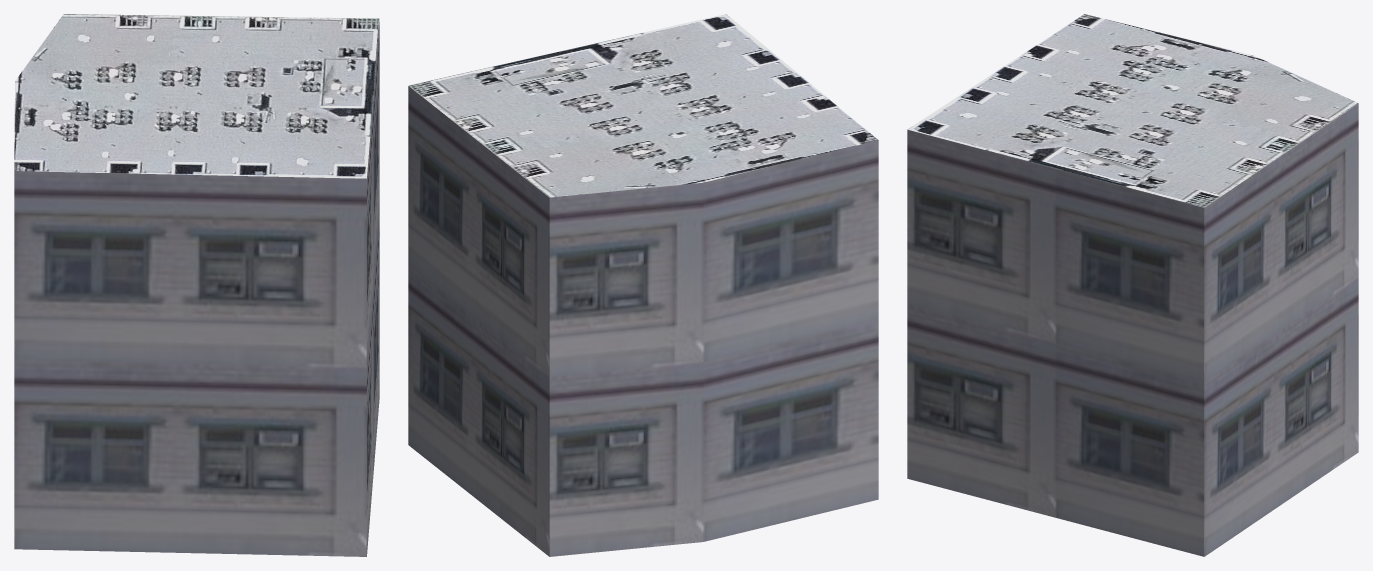
Rendered from ResTex__5191.fbx.
3 renders of one model, left to right at view 1: azimuth 30°, elevation 25°; view 2: azimuth 150°, elevation 25°; view 3: azimuth 270°, elevation 25°, orthographic. The views are drawn at different scales.
Visible parts, largest first — view 1: CityEngineMaterial_1_m, CityEngineMaterial_4_m; view 2: CityEngineMaterial_1_m, CityEngineMaterial_4_m; view 3: CityEngineMaterial_1_m, CityEngineMaterial_4_m.
Part boxes in pixels (x1,y1,x2,y2): CityEngineMaterial_1_m: (14,22,379,556); CityEngineMaterial_4_m: (14,14,379,178); CityEngineMaterial_1_m: (408,86,878,556); CityEngineMaterial_4_m: (408,14,878,197); CityEngineMaterial_1_m: (907,103,1358,556); CityEngineMaterial_4_m: (907,14,1358,207).
Bounding box in the file's own units: 7.15 × 6 × 7.03.
2 materials, 2 textured.
